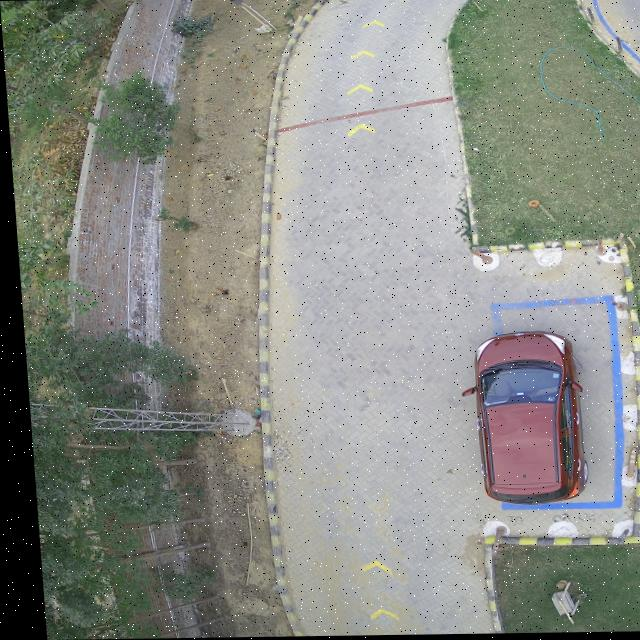car: (458, 331, 581, 506), (561, 490, 562, 491)
